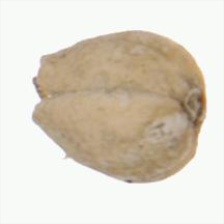L1: (30, 53, 53, 124), (182, 86, 208, 145)
L2: (31, 30, 205, 184)
